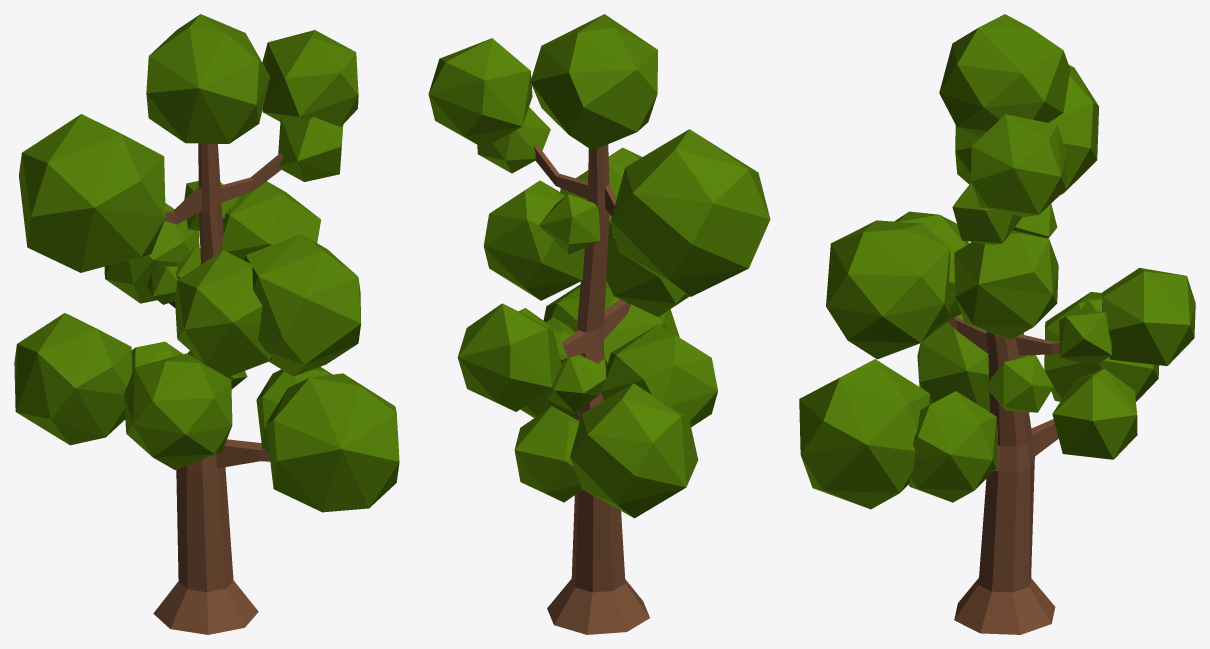
The model's file is arbol 3.fbx.
3 renders of one model, left to right at view 1: azimuth 30°, elevation 25°; view 2: azimuth 150°, elevation 25°; view 3: azimuth 270°, elevation 25°, orthographic.
Parts seen in each view (by area): view 1: arbol_3; view 2: arbol_3; view 3: arbol_3.
Boxes of the visible parts, x1,y1,x2,y2 form: arbol_3: (14,14,399,634); arbol_3: (428,14,770,634); arbol_3: (799,14,1195,634).
Bounding box in the file's own units: 446 × 766 × 465.
